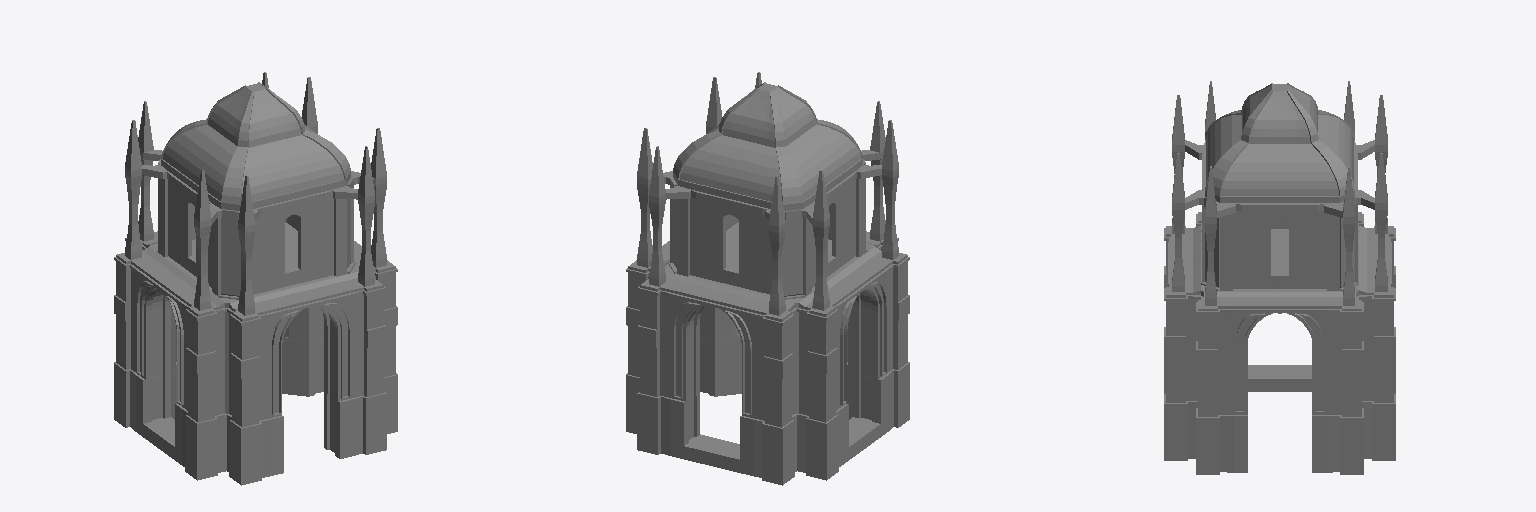
The model's file is Arc.obj.
3 views of the same model, side by side, from view 1: azimuth 30°, elevation 25°; view 2: azimuth 150°, elevation 25°; view 3: azimuth 270°, elevation 25° (orthographic).
Visible parts, largest first — view 1: Box001; view 2: Box001; view 3: Box001.
Part boxes in pixels (x1,y1,x2,y2): Box001: (114, 72, 397, 485); Box001: (626, 72, 909, 485); Box001: (1164, 81, 1395, 474).
Bounding box in the file's own units: 28.4 × 45.74 × 28.4.